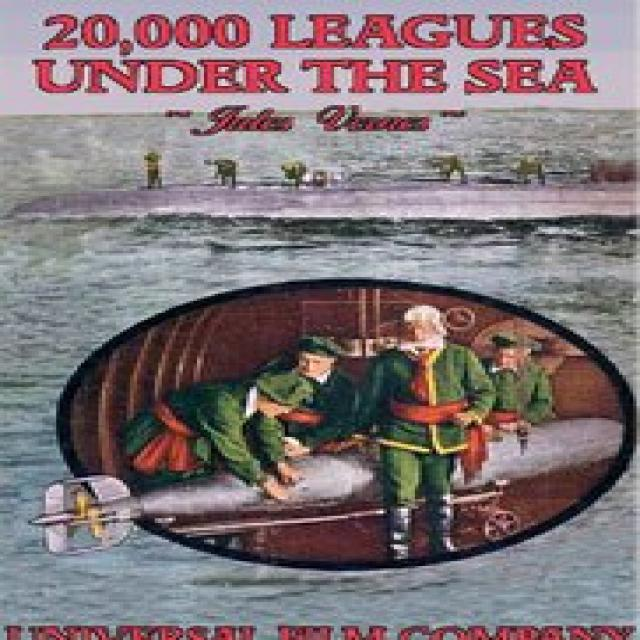movie-judul: (18, 6, 634, 104)
picture: (4, 115, 640, 624)
